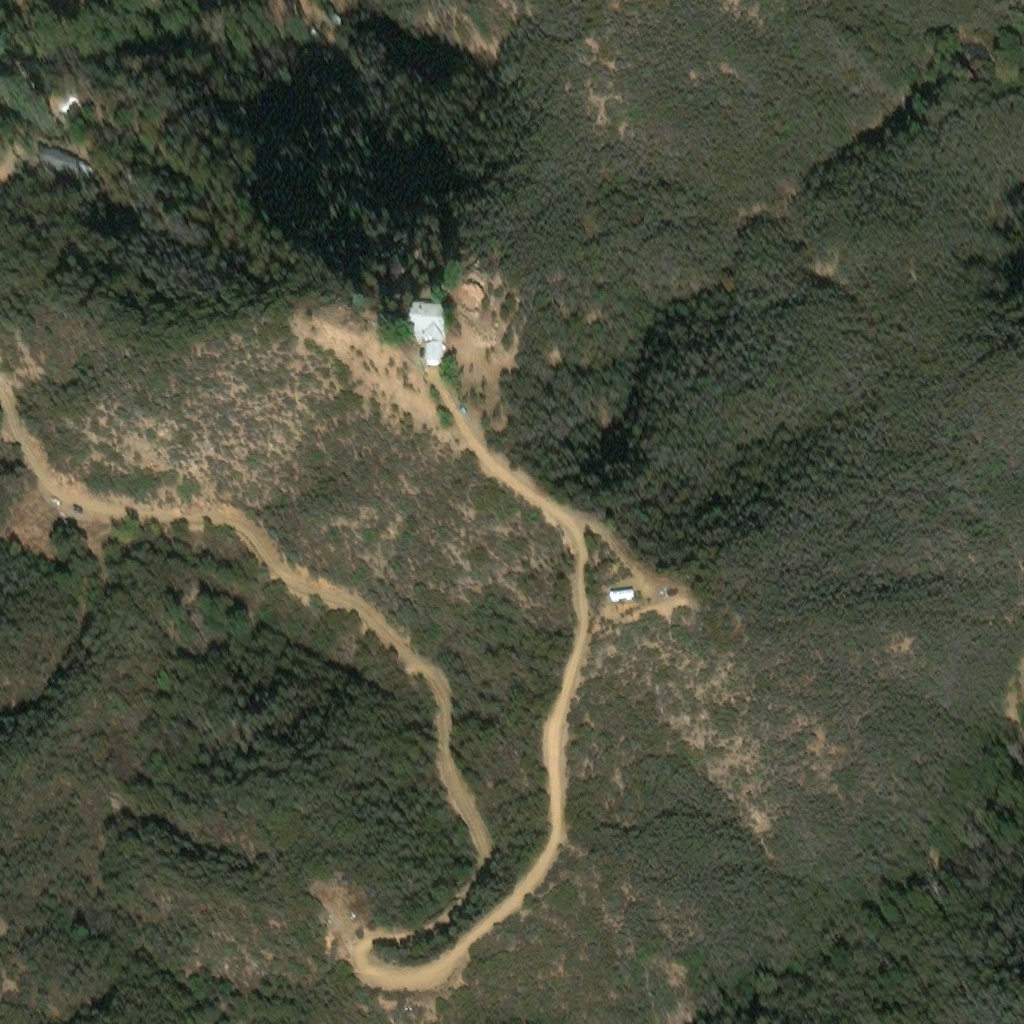0 no-damage: (410, 305, 450, 347), (28, 128, 79, 152), (426, 346, 446, 370), (613, 598, 636, 610)
4 un-classified: (7, 42, 41, 71), (295, 0, 305, 9), (316, 0, 324, 5)
